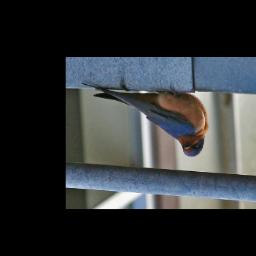Swallow: (81, 82, 209, 157)
